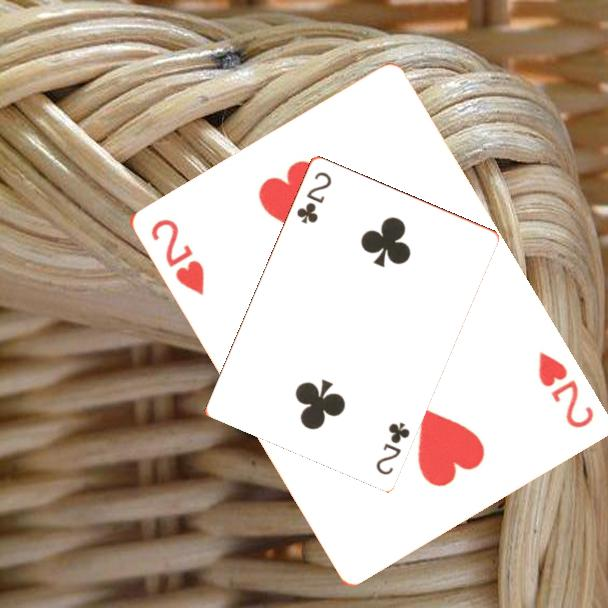c02: (372, 418, 413, 477), (293, 168, 334, 226)
h02: (533, 347, 596, 431), (146, 215, 207, 298)
